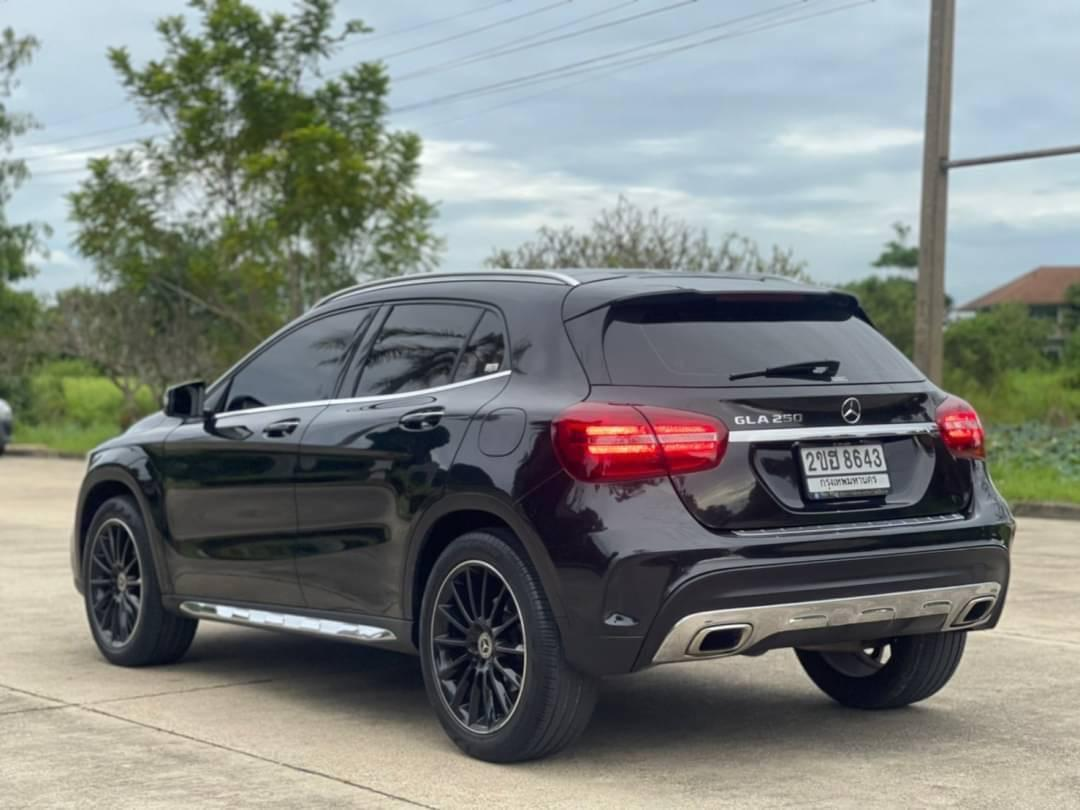license-plate: (801, 436, 895, 496)
